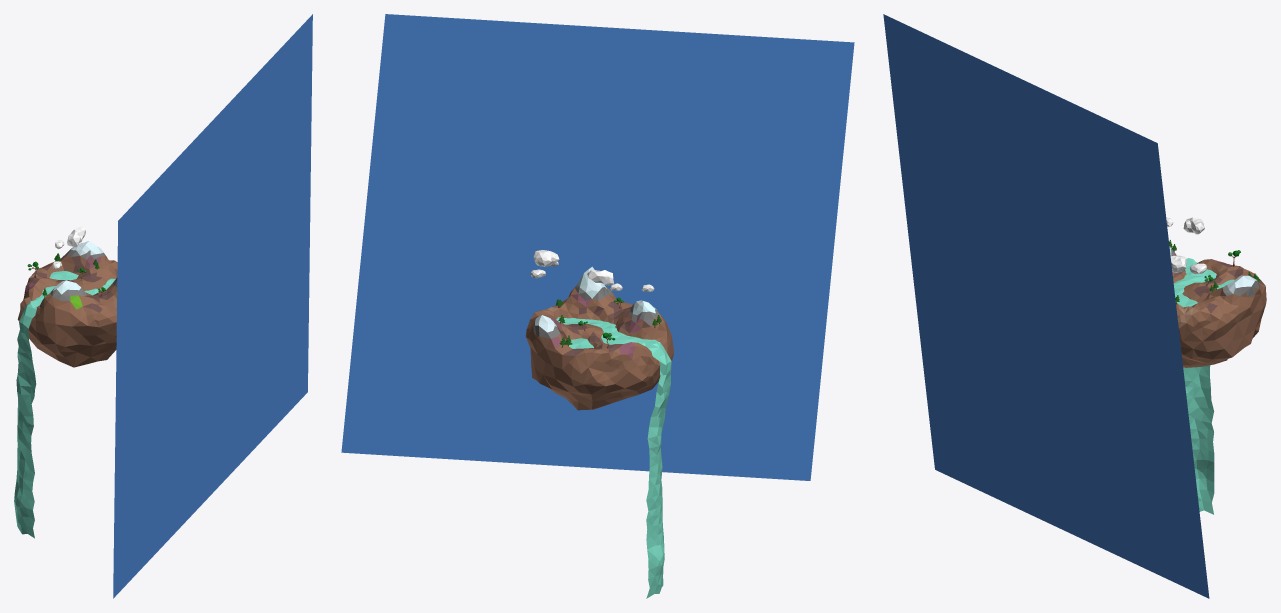
File: Island.gltf
The picture shows the model from 3 angles, left to right: view 1: azimuth 30°, elevation 25°; view 2: azimuth 150°, elevation 25°; view 3: azimuth 270°, elevation 25°; orthographic projection. The views are drawn at different scales.
Parts seen in each view (by area): view 1: Plane.009, Icosphere, Plane, Icosphere.007; view 2: Plane.009, Icosphere, Plane, Icosphere.007; view 3: Plane.009, Icosphere, Plane, Icosphere.007.
Part boxes in pixels (<box>): Plane.009: <box>113,14,312,598</box>; Icosphere: <box>17,241,117,367</box>; Plane: <box>14,271,115,538</box>; Icosphere.007: <box>52,226,85,269</box>; Plane.009: <box>341,14,854,480</box>; Icosphere: <box>525,266,673,410</box>; Plane: <box>556,317,671,598</box>; Icosphere.007: <box>530,250,654,291</box>; Plane.009: <box>883,14,1209,598</box>; Icosphere: <box>1169,246,1266,367</box>; Plane: <box>1173,258,1234,514</box>; Icosphere.007: <box>1166,217,1206,274</box>.
Size of the model in its own units: 55.42 by 73.41 by 49.08.
